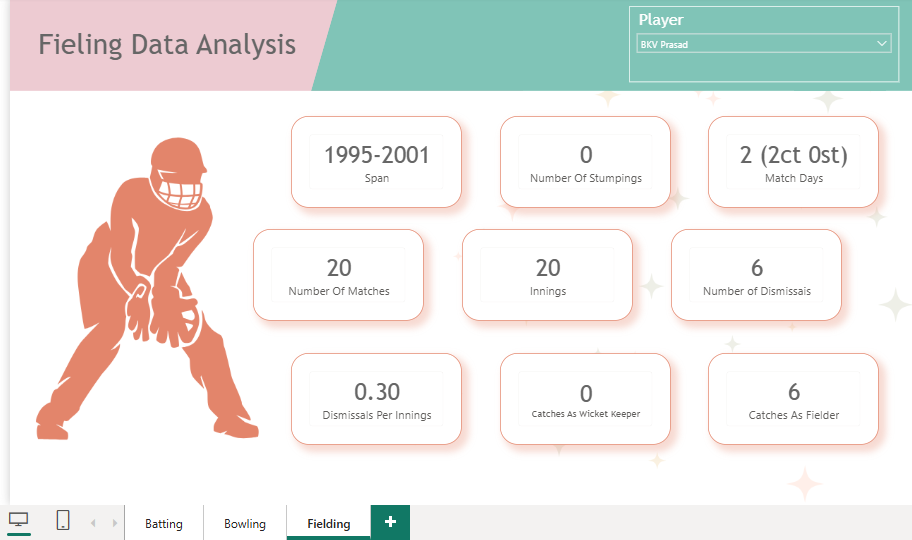

What the dashboard file says about the page in this screenshot:
{"tool":"powerbi","page":{"name":"Fielding","canvas":[1280,720],"ordinal":2},"visuals":[{"type":"shape","box":[0,0,727.1,133.2],"z":0},{"type":"shape","box":[426.6,0,853.2,133.2],"z":1000},{"type":"shape","box":[1111.2,0,168.7,133.2],"z":2000},{"type":"slicer","fields":{"Values":["fieding.Player"]},"box":[877.3,12.8,382.7,107.7],"z":3000},{"type":"cardVisual","fields":{"Data":["Min(fieding.Span)"]},"box":[398.3,168.7,242.4,130.4],"z":4000},{"type":"cardVisual","fields":{"Data":["Sum(fieding.St)"]},"box":[693.8,168.7,242.4,130.4],"z":5000},{"type":"cardVisual","fields":{"Data":["Min(fieding.MD)"]},"box":[989.3,168.7,242.4,130.4],"z":6000},{"type":"cardVisual","fields":{"Data":["Sum(fieding.Mat)"]},"box":[344.4,328.8,242.4,130.4],"z":7000},{"type":"cardVisual","fields":{"Data":["Sum(fieding.Inns)"]},"box":[640.6,328.8,242.4,130.4],"z":8000},{"type":"cardVisual","fields":{"Data":["Sum(fieding.DisDescending)"]},"box":[936.9,328.8,242.4,130.4],"z":9000},{"type":"cardVisual","fields":{"Data":["Sum(fieding.D/I)"]},"box":[398.3,504.6,242.4,130.4],"z":10000},{"type":"cardVisual","fields":{"Data":["Sum(fieding.Ct Wk)"]},"box":[694.5,504.6,242.4,130.4],"z":11000},{"type":"cardVisual","fields":{"Data":["Sum(fieding.Ct Fi)"]},"box":[989.3,504.6,242.4,130.4],"z":12000}]}

Visuals, with their boxes on the page's 1280x720 design canvas (x1, y1, x2, y2). These are canvas units, not pixel positions in the 912x540 screenshot, which may show the page scaled, cropped or inside an application window:
shape: {"x1": 0, "y1": 0, "x2": 727, "y2": 133}
shape: {"x1": 427, "y1": 0, "x2": 1280, "y2": 133}
shape: {"x1": 1111, "y1": 0, "x2": 1280, "y2": 133}
slicer - fieding.Player: {"x1": 877, "y1": 13, "x2": 1260, "y2": 120}
cardVisual - Min(fieding.Span): {"x1": 398, "y1": 169, "x2": 641, "y2": 299}
cardVisual - Sum(fieding.St): {"x1": 694, "y1": 169, "x2": 936, "y2": 299}
cardVisual - Min(fieding.MD): {"x1": 989, "y1": 169, "x2": 1232, "y2": 299}
cardVisual - Sum(fieding.Mat): {"x1": 344, "y1": 329, "x2": 587, "y2": 459}
cardVisual - Sum(fieding.Inns): {"x1": 641, "y1": 329, "x2": 883, "y2": 459}
cardVisual - Sum(fieding.DisDescending): {"x1": 937, "y1": 329, "x2": 1179, "y2": 459}
cardVisual - Sum(fieding.D/I): {"x1": 398, "y1": 505, "x2": 641, "y2": 635}
cardVisual - Sum(fieding.Ct Wk): {"x1": 694, "y1": 505, "x2": 937, "y2": 635}
cardVisual - Sum(fieding.Ct Fi): {"x1": 989, "y1": 505, "x2": 1232, "y2": 635}
